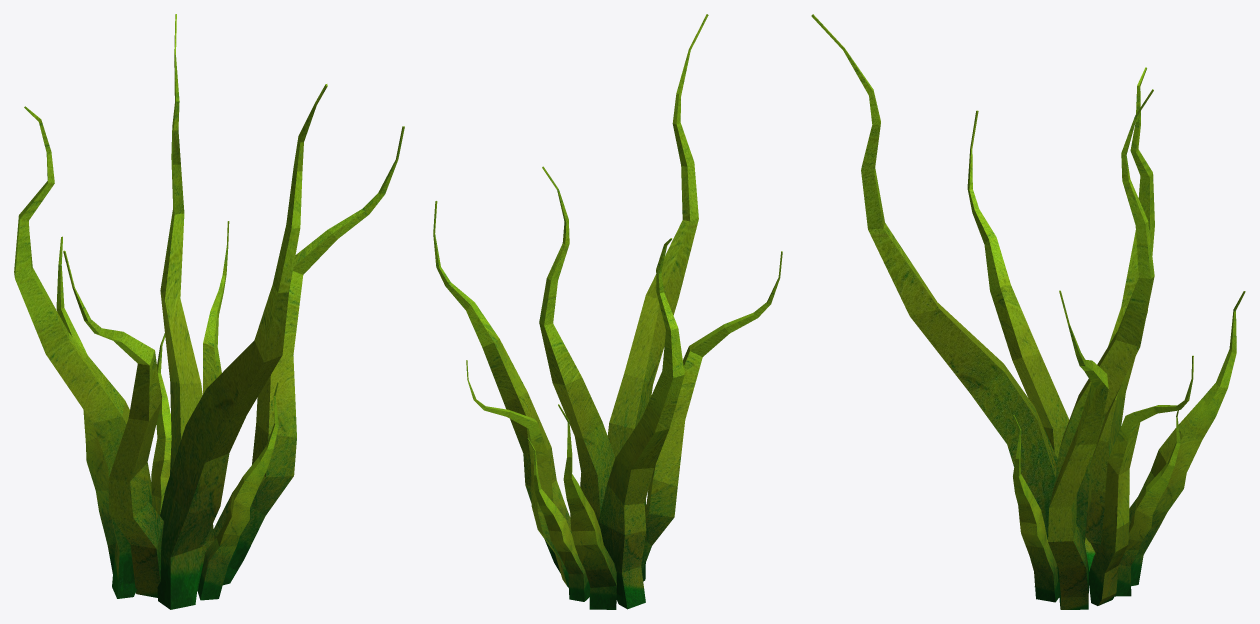
File: alga.gltf
3 views of the same model, side by side, from view 1: azimuth 30°, elevation 25°; view 2: azimuth 150°, elevation 25°; view 3: azimuth 270°, elevation 25° (orthographic). The views are drawn at different scales.
Visible parts, largest first — view 1: Object_2; view 2: Object_2; view 3: Object_2.
Part boxes in pixels (left/top/right/bottom): Object_2: left=14, top=14, right=404, bottom=609; Object_2: left=433, top=14, right=782, bottom=609; Object_2: left=811, top=14, right=1245, bottom=609.
Bounding box in the file's own units: 4.84 × 7.26 × 4.91.
1 material, 1 textured.
